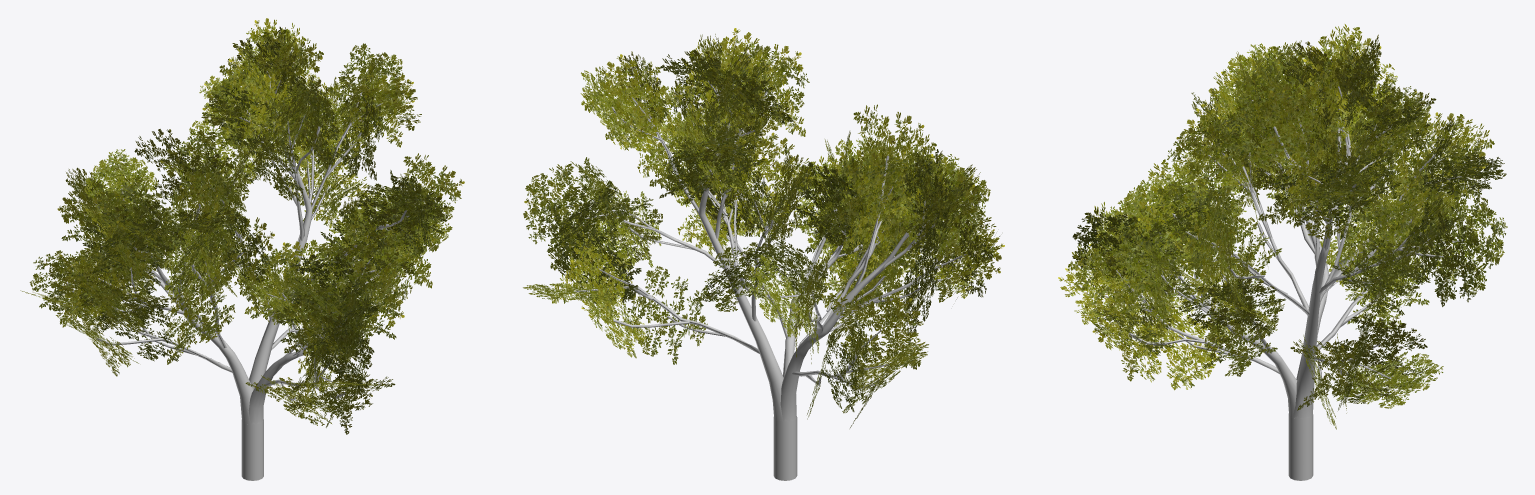
File: Southern_Magnolia_Model_0.obj
The picture shows the model from 3 angles, left to right: view 1: azimuth 30°, elevation 25°; view 2: azimuth 150°, elevation 25°; view 3: azimuth 270°, elevation 25°; orthographic projection. The views are drawn at different scales.
Visible parts, largest first — view 1: Foliage__leafcard, Bark; view 2: Foliage__leafcard, Bark; view 3: Foliage__leafcard, Bark.
Part boxes in pixels (left/top/right/bottom): Foliage__leafcard: left=20, top=18, right=464, bottom=434; Bark: left=63, top=64, right=424, bottom=480; Foliage__leafcard: left=523, top=28, right=1004, bottom=427; Bark: left=565, top=78, right=974, bottom=480; Foliage__leafcard: left=1058, top=24, right=1507, bottom=429; Bark: left=1099, top=78, right=1464, bottom=480.
Size of the model in its own units: 20.49 by 20 by 18.17.
